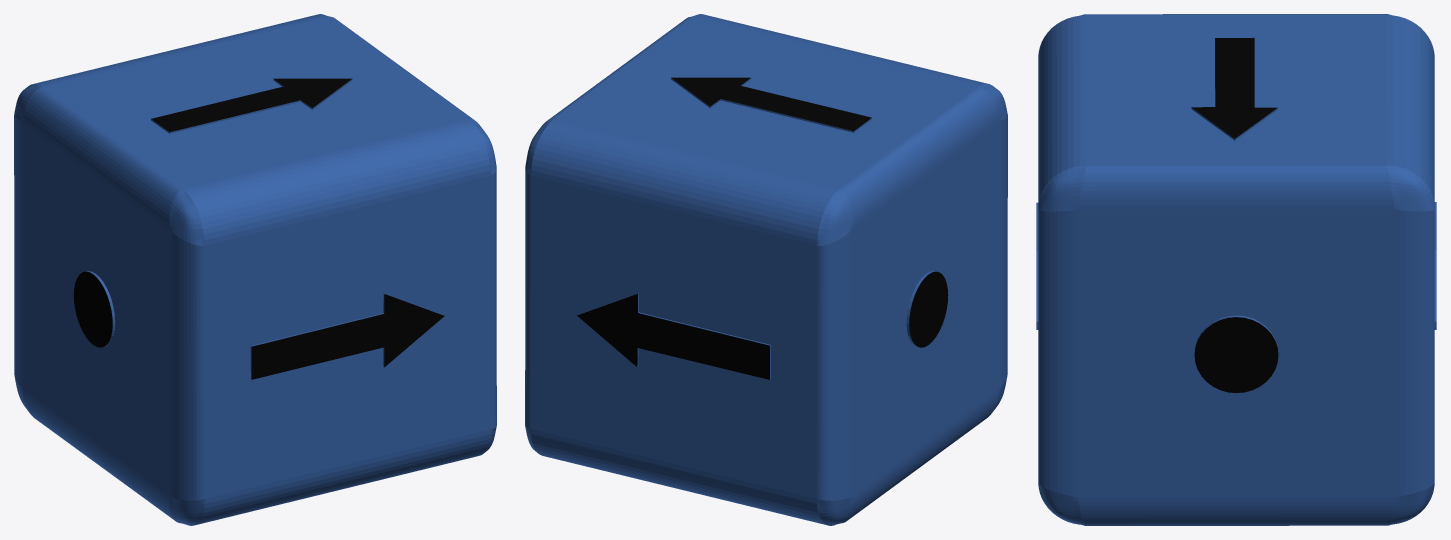
3 views of the same model, side by side, from view 1: azimuth 30°, elevation 25°; view 2: azimuth 150°, elevation 25°; view 3: azimuth 270°, elevation 25° (orthographic). The views are drawn at different scales.
Visible parts, largest first — view 1: Cube; view 2: Cube; view 3: Cube.
Boxes of the visible parts, x1=… form: Cube: x1=14, y1=14, x2=496, y2=525; Cube: x1=525, y1=14, x2=1007, y2=525; Cube: x1=1036, y1=14, x2=1436, y2=525.
Size of the model in its own units: 204 by 202 by 202.
